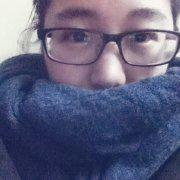WRONG: (47, 7, 175, 135)
